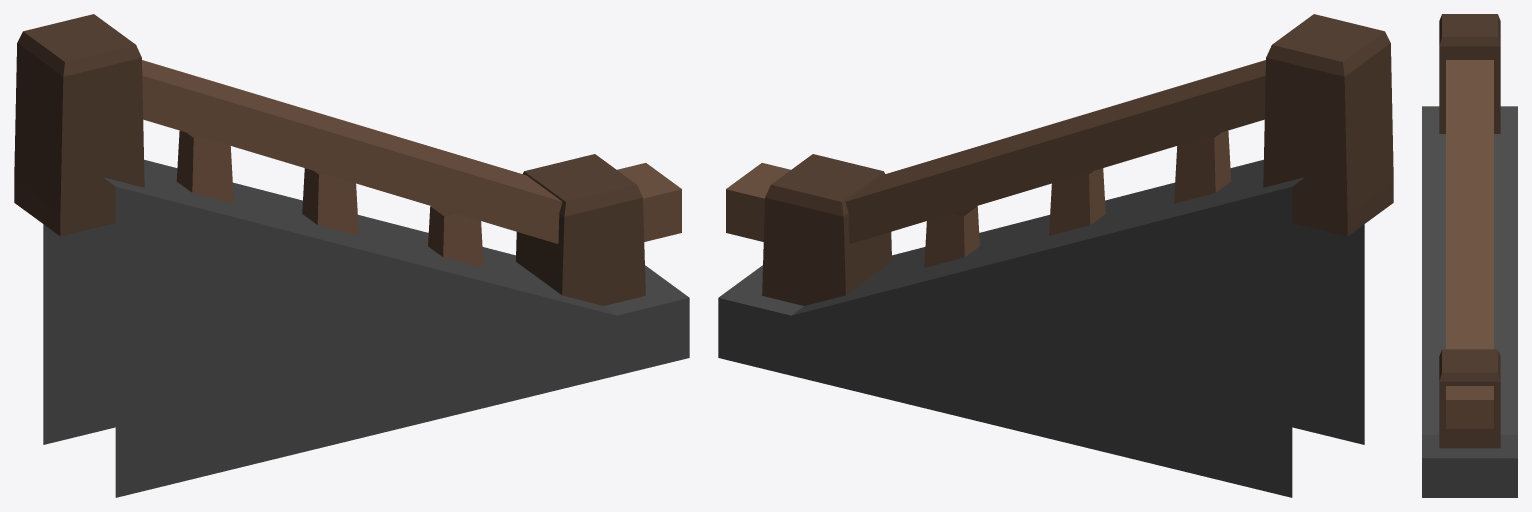
File: Stairs_RailingUp.fbx
3 renders of one model, left to right at view 1: azimuth 30°, elevation 25°; view 2: azimuth 150°, elevation 25°; view 3: azimuth 270°, elevation 25°, orthographic. The views are drawn at different scales.
Parts seen in each view (by area): view 1: Stairs_RailingUp; view 2: Stairs_RailingUp; view 3: Stairs_RailingUp.
Boxes of the visible parts, box(x1,y1,x2,y2) form: Stairs_RailingUp: box(14, 14, 689, 497); Stairs_RailingUp: box(718, 14, 1393, 497); Stairs_RailingUp: box(1422, 14, 1517, 497).
Size of the model in its own units: 4.8 by 3.17 by 0.96.
